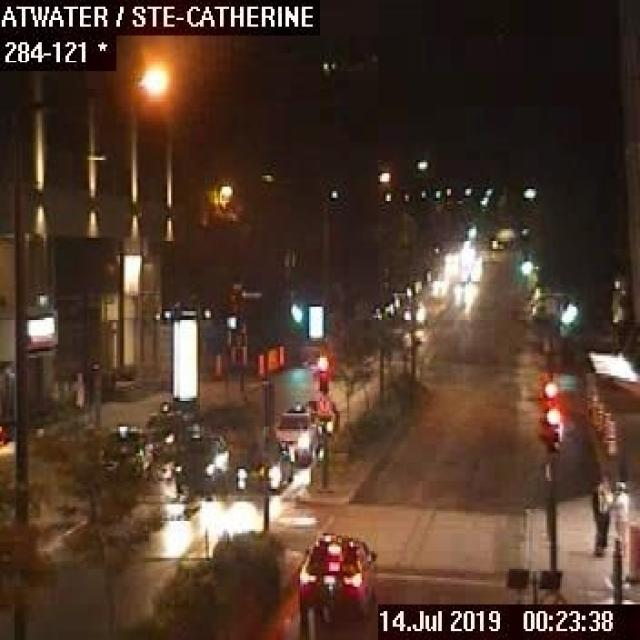construction: (604, 417, 617, 455), (602, 410, 610, 442), (596, 401, 603, 435), (590, 391, 597, 423), (267, 347, 276, 371), (213, 353, 220, 379), (256, 354, 264, 376), (277, 343, 283, 366)
pedestrian: (589, 476, 611, 554), (611, 479, 628, 554)
vehicle: (295, 531, 378, 618), (94, 424, 152, 472), (235, 442, 290, 490), (177, 432, 229, 480), (272, 412, 317, 463), (143, 411, 185, 455), (403, 300, 425, 324)
